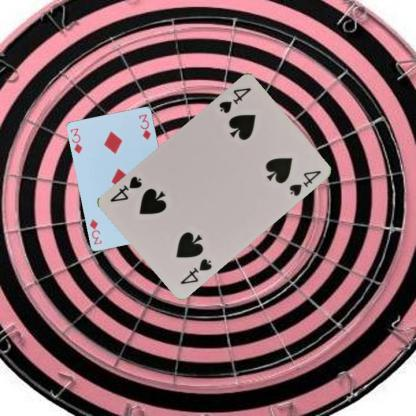3d: (68, 126, 84, 155)
4s: (216, 84, 253, 115), (178, 256, 214, 286)
